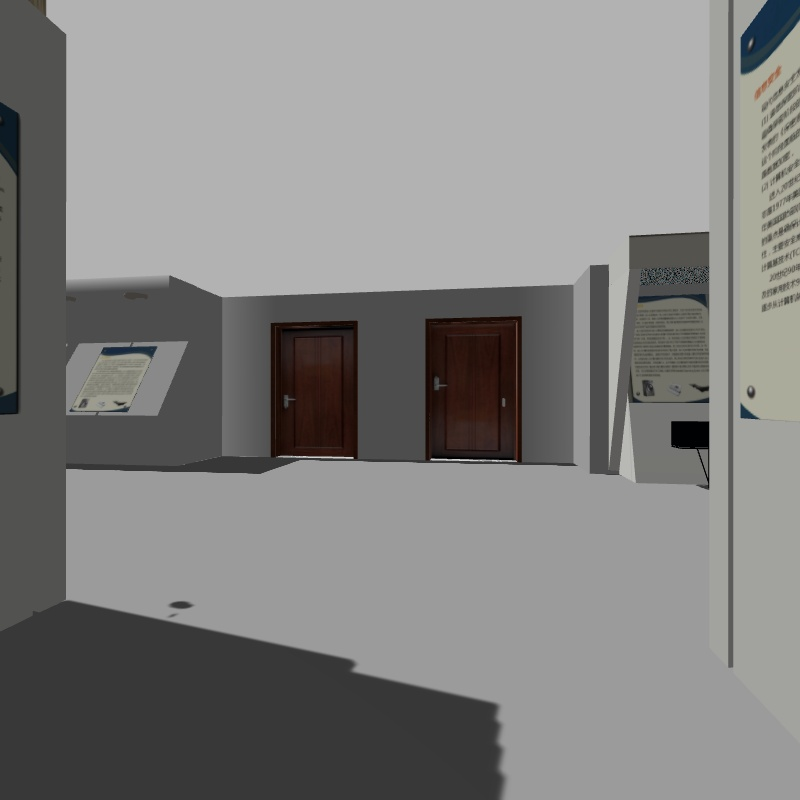handle: (425, 376, 450, 393), (277, 391, 295, 410)
